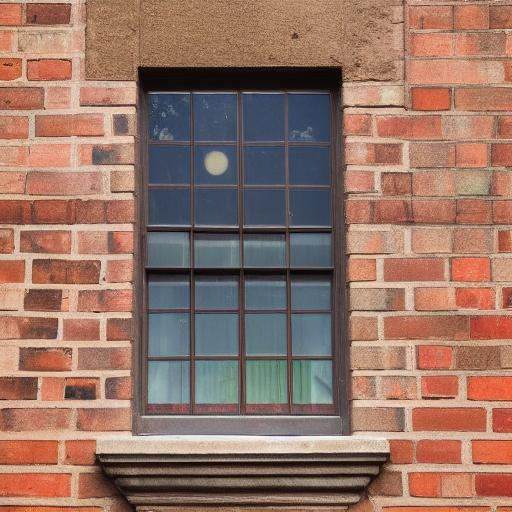Window: (94, 63, 393, 512)
